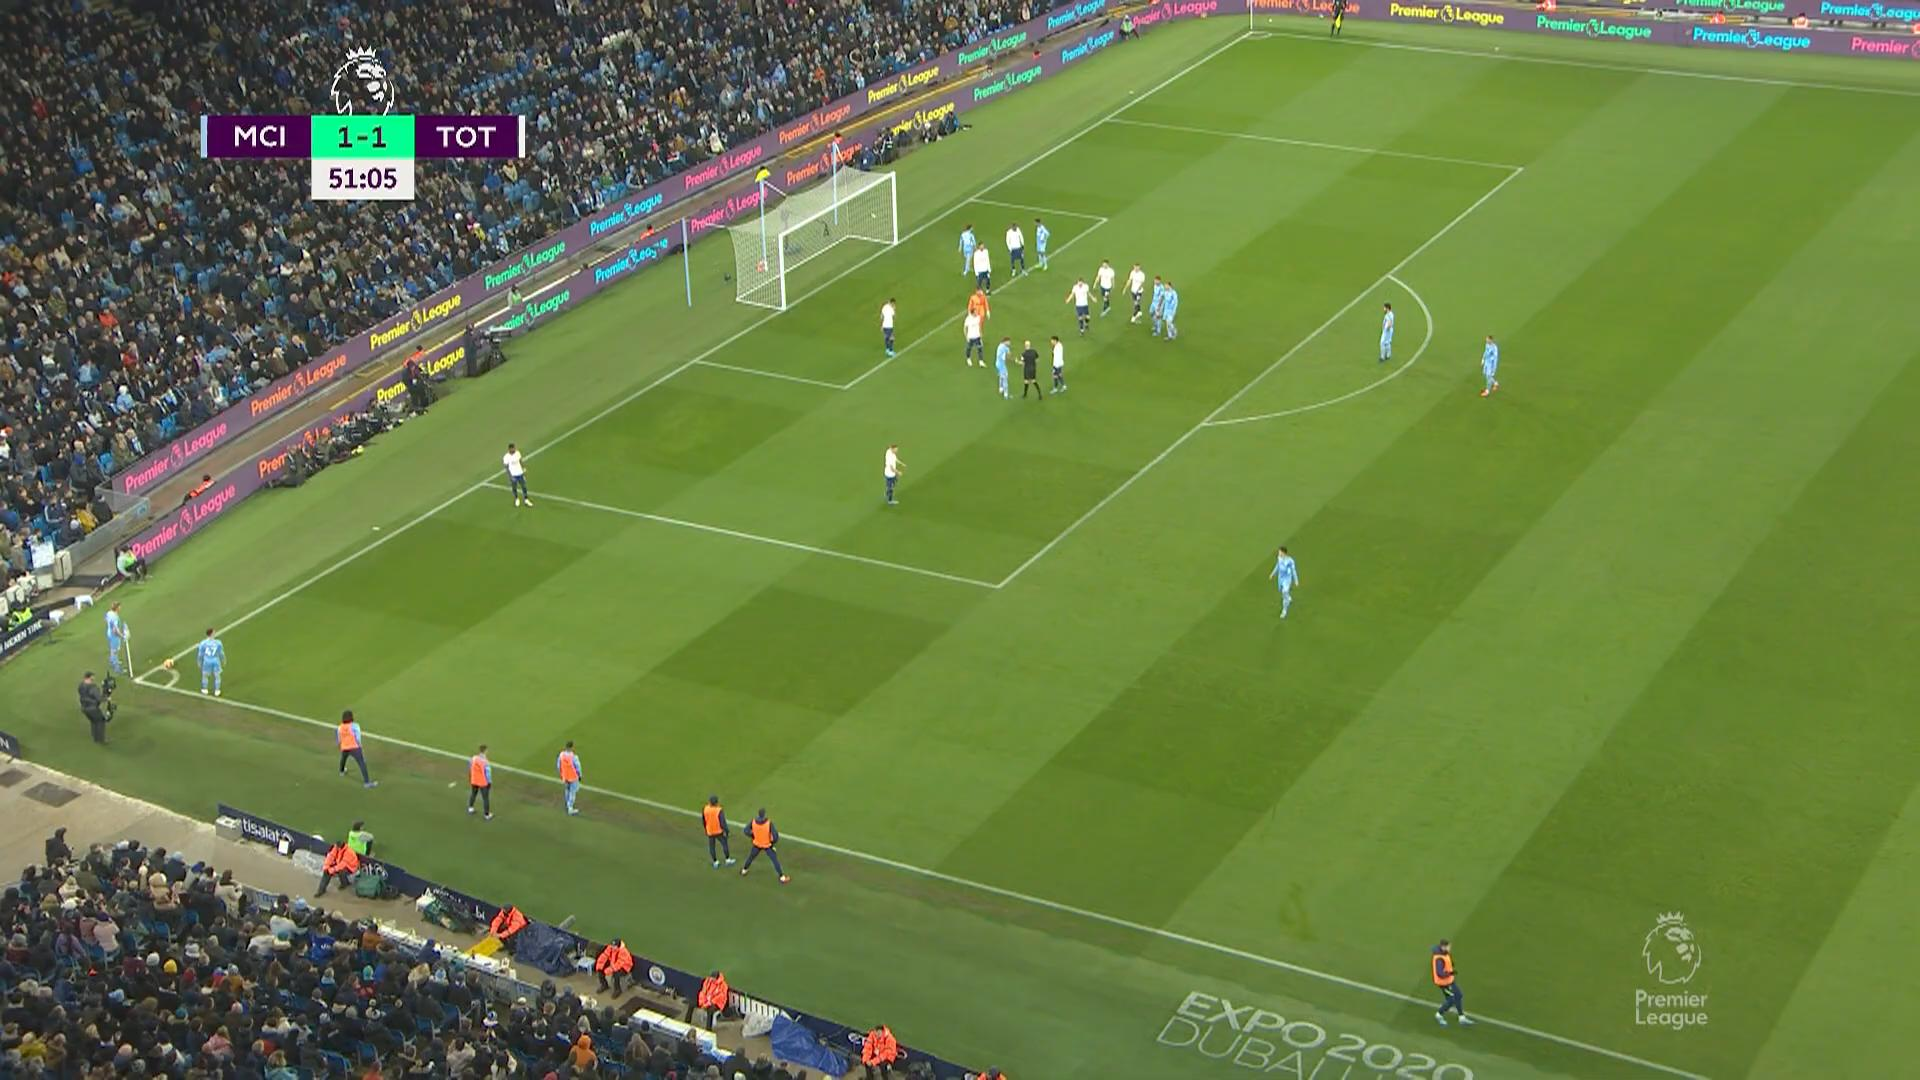ball: (164, 657, 174, 669)
goalkeeper: (968, 288, 989, 345)
player: (1268, 545, 1298, 619), (501, 441, 534, 508), (103, 600, 131, 677), (195, 626, 225, 697), (962, 309, 988, 369), (882, 443, 907, 505), (994, 335, 1016, 400), (1478, 333, 1500, 397), (1161, 280, 1182, 342), (1005, 223, 1029, 277), (1047, 334, 1067, 394), (1073, 278, 1093, 336), (879, 296, 898, 357), (1096, 258, 1115, 318), (973, 241, 993, 297), (1377, 301, 1395, 361), (1128, 262, 1145, 324), (958, 224, 978, 276), (1032, 218, 1049, 272), (1151, 274, 1163, 339)
referee: (1021, 341, 1042, 401)
staff: (1429, 936, 1474, 1025), (739, 804, 790, 881), (335, 708, 378, 788), (701, 794, 736, 868), (465, 743, 494, 820), (556, 740, 582, 815)
